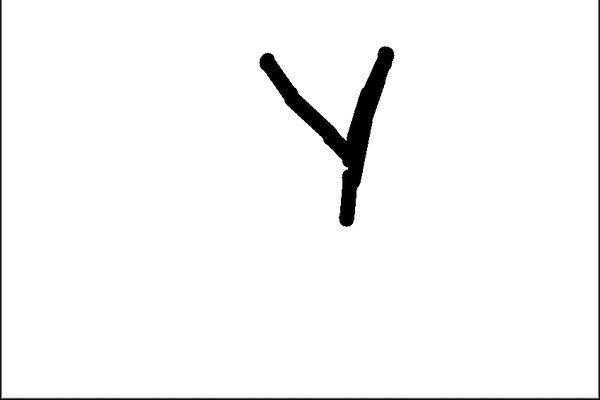Y: (254, 37, 399, 236)
